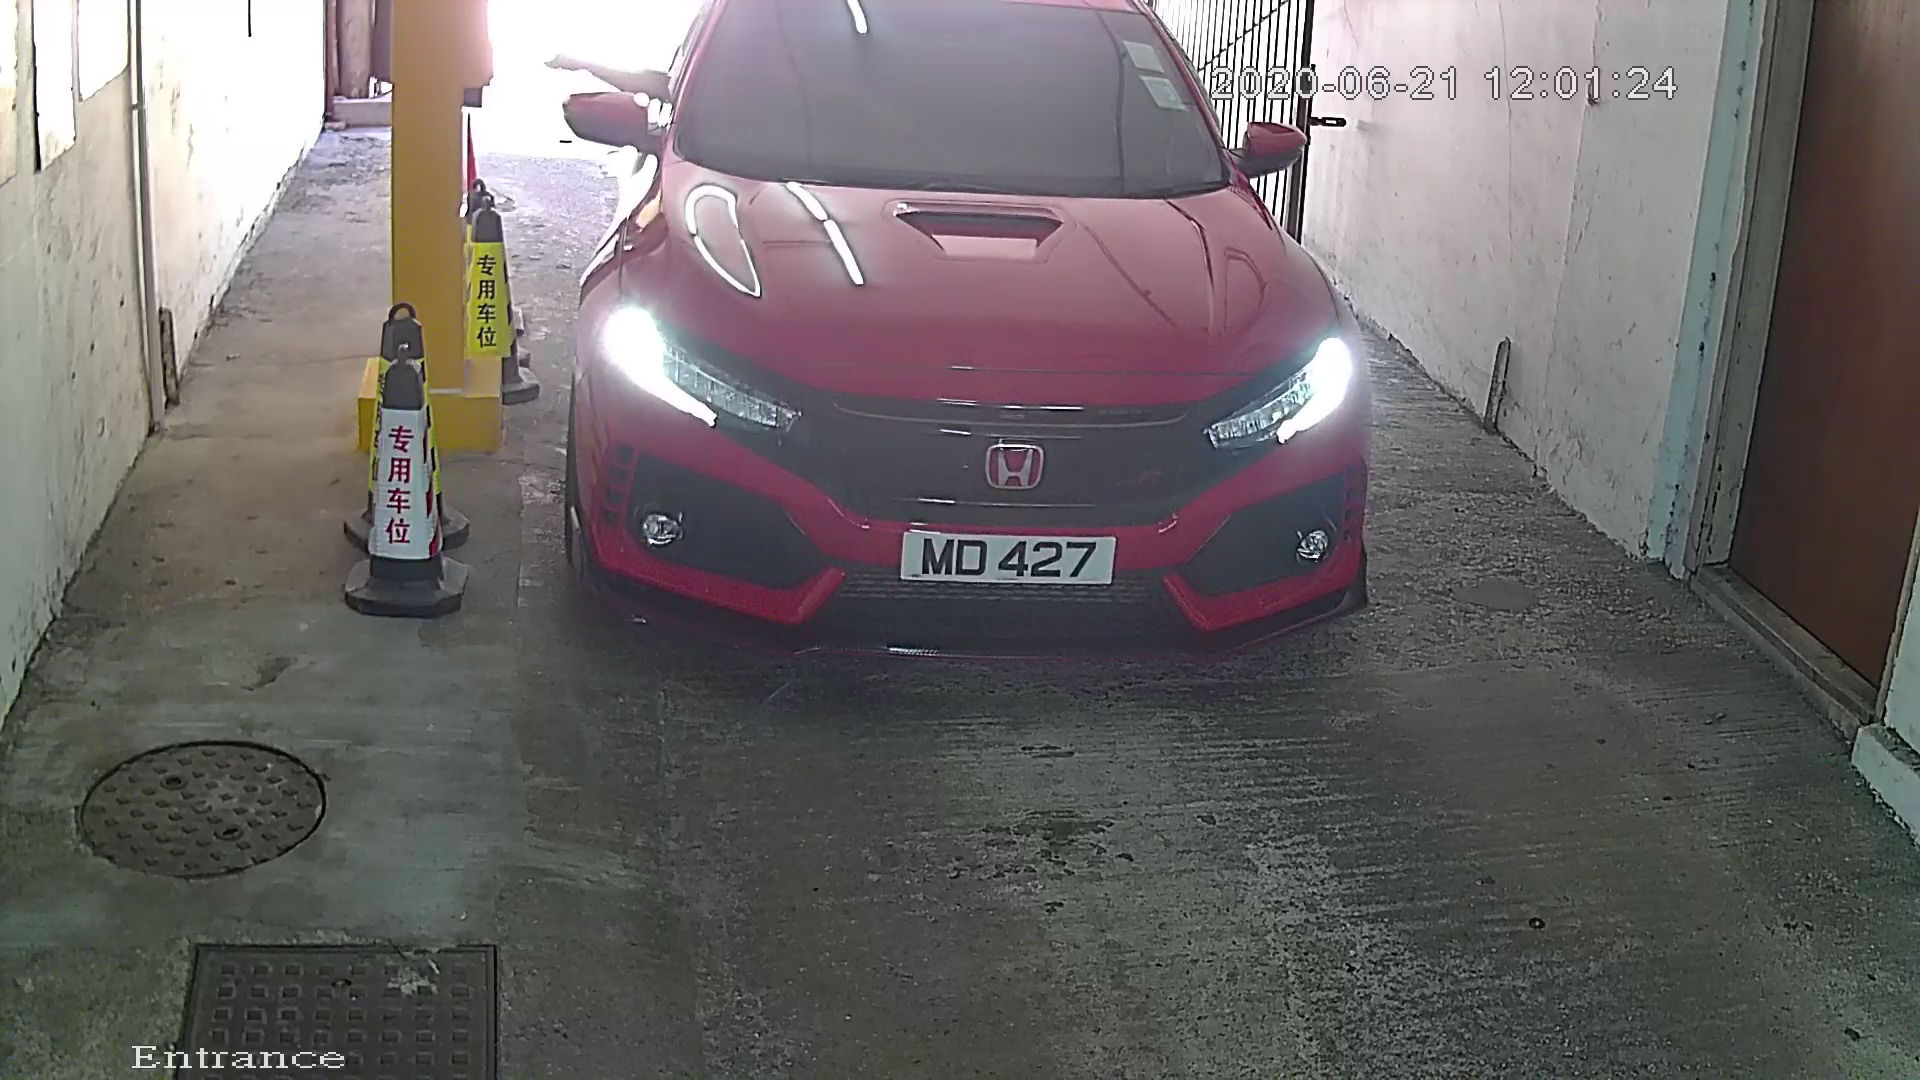privatecar: (550, 3, 1424, 711)
